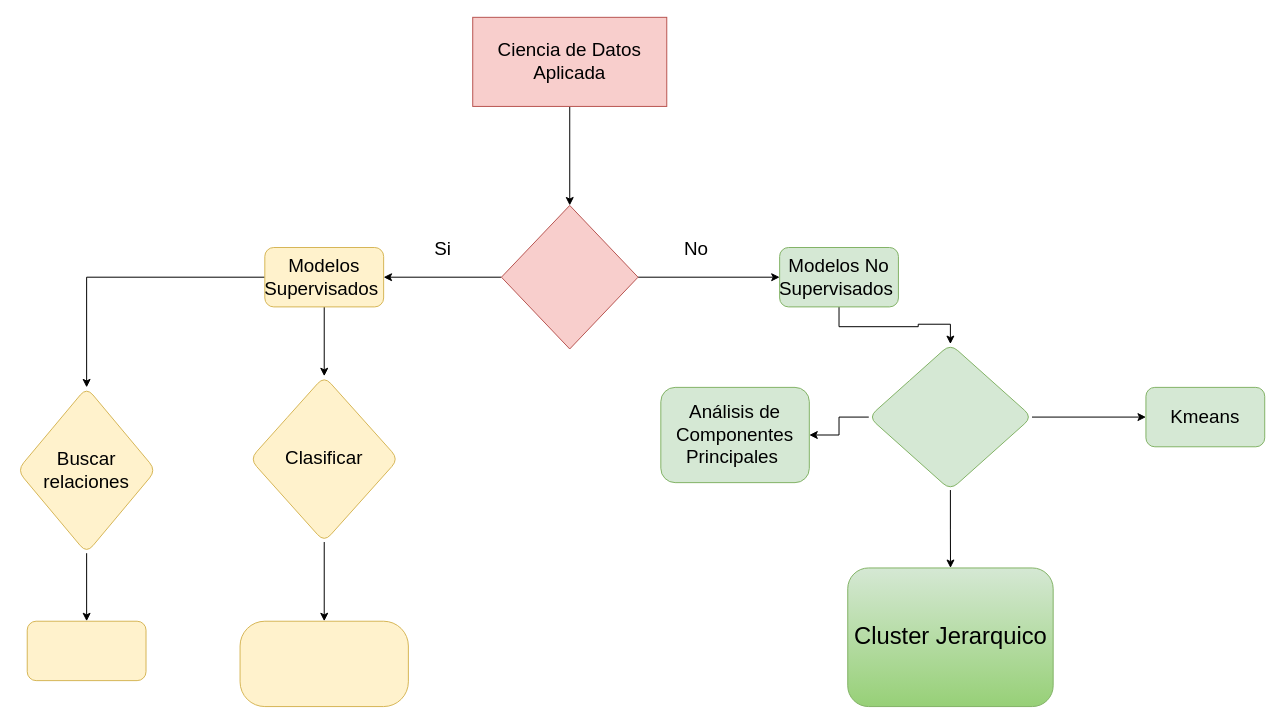
Image size: 1282x725. Some labels were removed from this diagram. The centre of each missing label's shape, as x and y in pixels:
Existe una variable dependiente?: point 569,276
Explorar o Confirmar: point 950,416
Modelos de clasificación (Reg Logística): point 323,663
Modelos de Regresión: point 86,650
